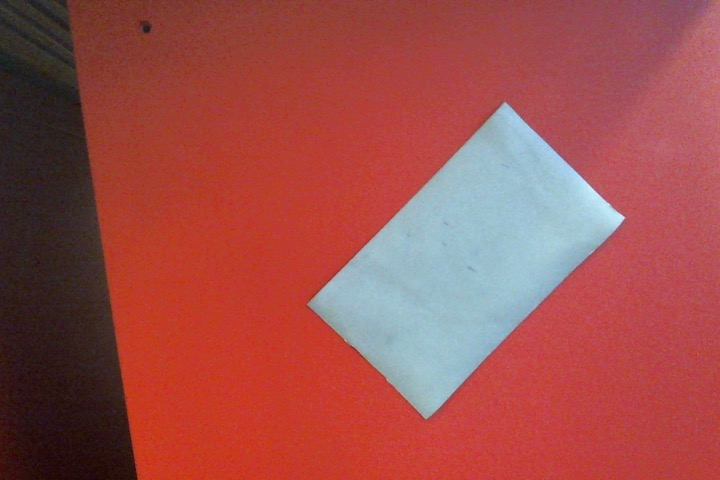Tape: (306, 102, 627, 420)
